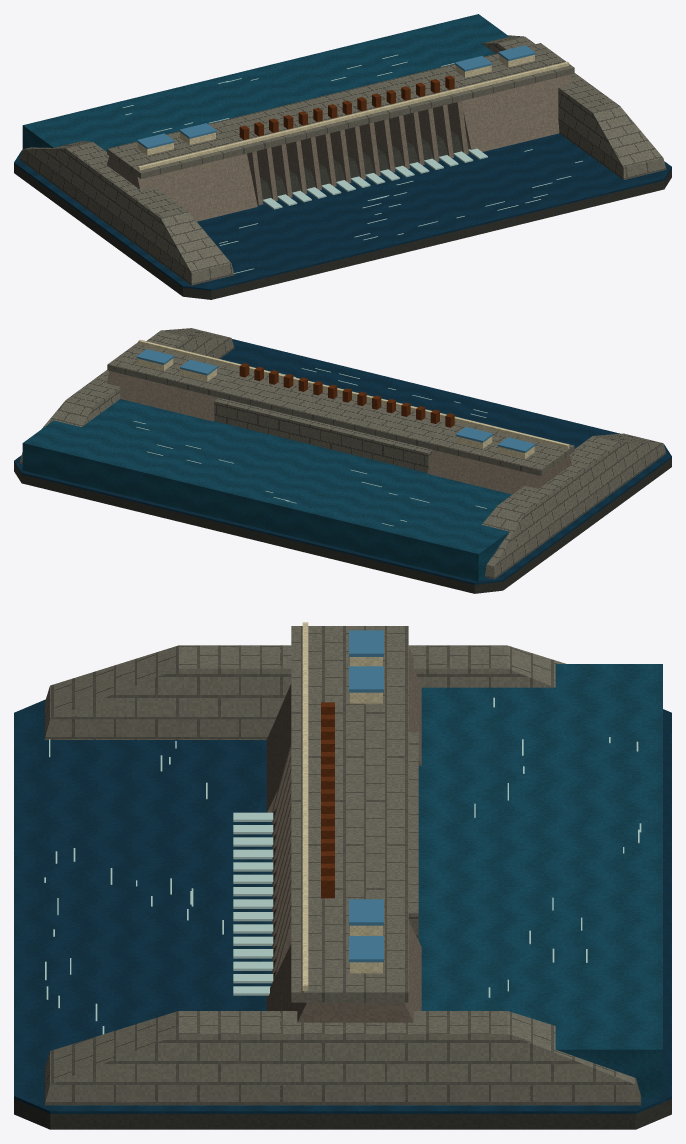
Rendered from three-gorges-dam.glb.
3 views of the same model, one above another, from view 1: azimuth 30°, elevation 25°; view 2: azimuth 150°, elevation 25°; view 3: azimuth 270°, elevation 25° (orthographic). The views are drawn at different scales.
Parts seen in each view (by area): view 1: 三峡大坝; view 2: 三峡大坝; view 3: 三峡大坝.
Boxes of the visible parts, box(x1,y1,x2,y2) form: 三峡大坝: box(14, 14, 671, 299); 三峡大坝: box(14, 328, 671, 593); 三峡大坝: box(14, 622, 671, 1129).
Size of the model in its own units: 12.5 by 1.85 by 8.4.
Materials: 9 (7 with a texture image).
